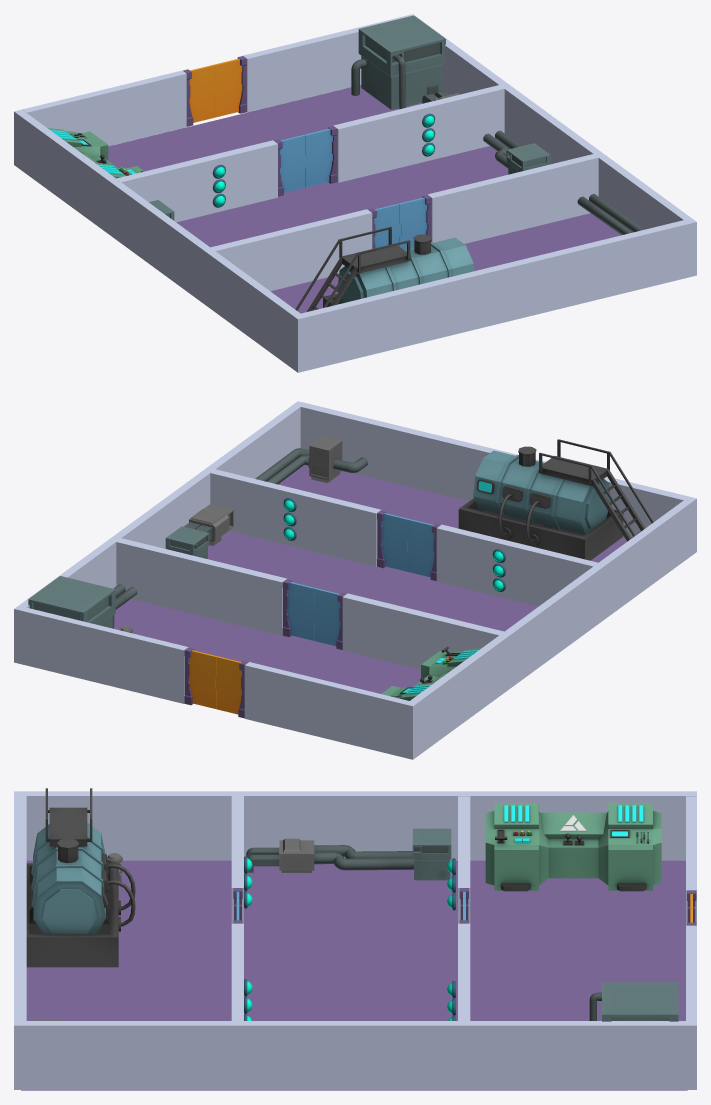
The model's file is maps_10.fbx.
3 renders of one model, top to bottom at view 1: azimuth 30°, elevation 25°; view 2: azimuth 150°, elevation 25°; view 3: azimuth 270°, elevation 25°, orthographic. The views are drawn at different scales.
Visible parts, largest first — view 1: wall_01_geo, wall_06_geo, wall_07_geo, wall_05_geo, wall_03_geo, wall_02_geo, wall_08_geo, wall_09_geo, wall_10_geo, tankwater_geo, generatorStation_05_geo, wall_04_geo (+9 smaller); view 2: wall_01_geo, wall_07_geo, tankwater_geo, wall_06_geo, wall_03_geo, wall_04_geo, wall_08_geo, wall_05_geo, wall_02_geo, wall_10_geo, wall_09_geo, generatorStation_03_geo (+9 smaller); view 3: wall_01_geo, wall_02_geo, wall_07_geo, table_01_geo, tankwater_geo, generatorStation_04_geo1, generatorStation_05_geo, wall_06_geo, wall_09_geo, wall_10_geo, wall_03_geo, wall_05_geo (+2 smaller).
Boxes of the visible parts, box(x1,y1,x2,y2) form: wall_01_geo: box(108, 85, 620, 313); wall_06_geo: box(301, 220, 689, 370); wall_07_geo: box(14, 109, 305, 372); wall_05_geo: box(427, 154, 598, 243); wall_03_geo: box(333, 85, 504, 182); wall_02_geo: box(405, 14, 696, 276); wall_08_geo: box(22, 70, 186, 146); wall_09_geo: box(116, 140, 277, 222); wall_10_geo: box(210, 209, 372, 291); tankwater_geo: box(295, 226, 474, 311); generatorStation_05_geo: box(351, 15, 445, 109); wall_04_geo: box(243, 16, 406, 112); wall_01_geo: box(114, 465, 627, 693); wall_07_geo: box(405, 496, 696, 759); tankwater_geo: box(458, 439, 653, 560); wall_06_geo: box(300, 403, 688, 539); wall_03_geo: box(116, 538, 286, 635); wall_04_geo: box(22, 607, 188, 703); wall_08_geo: box(244, 662, 409, 757); wall_05_geo: box(210, 469, 381, 566); wall_02_geo: box(14, 401, 305, 664); wall_10_geo: box(436, 524, 598, 606); wall_09_geo: box(342, 593, 503, 669); generatorStation_03_geo: box(184, 436, 367, 545); wall_01_geo: box(21, 860, 687, 1090); wall_02_geo: box(14, 1021, 696, 1089); wall_07_geo: box(14, 791, 696, 860); table_01_geo: box(485, 803, 661, 891); tankwater_geo: box(26, 788, 135, 967); generatorStation_04_geo1: box(246, 828, 451, 880); generatorStation_05_geo: box(589, 982, 678, 1021); wall_06_geo: box(14, 796, 26, 1020); wall_09_geo: box(458, 796, 470, 923); wall_10_geo: box(231, 796, 243, 923); wall_03_geo: box(458, 923, 470, 1020); wall_05_geo: box(231, 923, 243, 1020).
Size of the model in its own units: 69.23 by 15.68 by 85.35.
7 materials, 7 textured.
